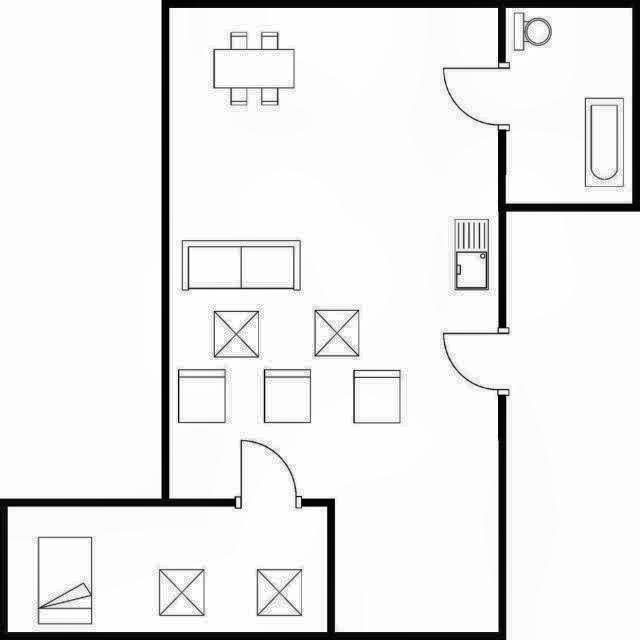room: (169, 8, 498, 632), (9, 507, 327, 631), (506, 8, 631, 204)
